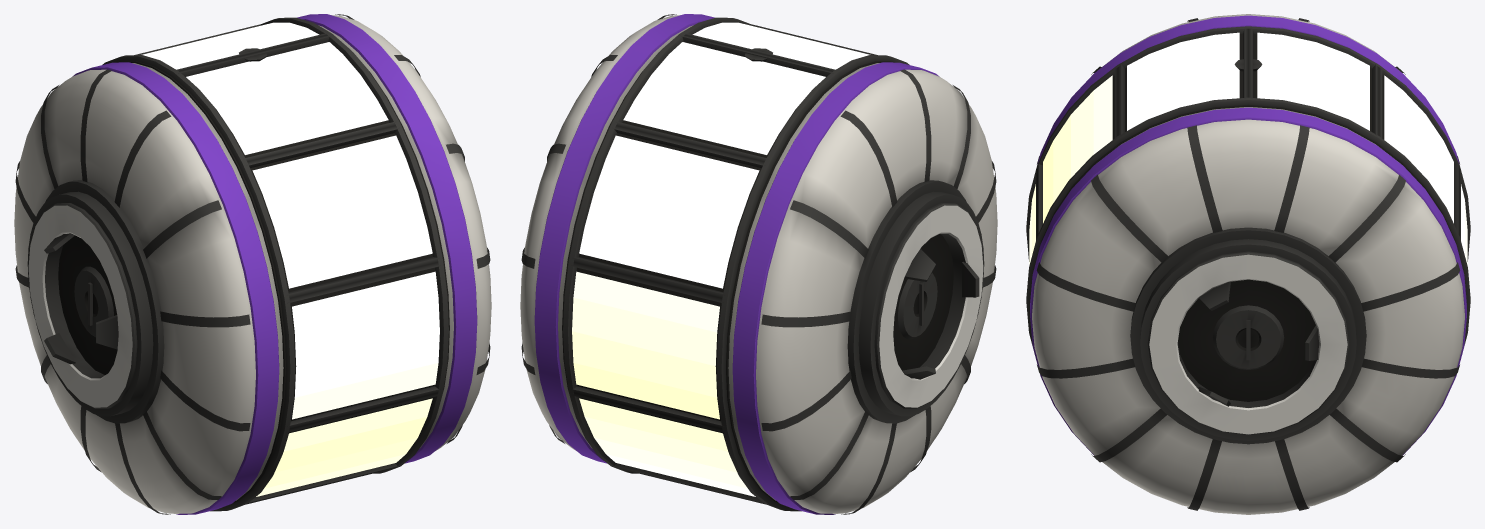
Rendered from lounge.glb.
3 renders of one model, left to right at view 1: azimuth 30°, elevation 25°; view 2: azimuth 150°, elevation 25°; view 3: azimuth 270°, elevation 25°, orthographic. The views are drawn at different scales.
Parts seen in each view (by area): view 1: body, win_main_01, win_main_02, win_main_00, win_main_03, win_main_09; view 2: body, win_main_08, win_main_07, win_main_09, win_main_06, win_main_00; view 3: body, win_main_00, win_main_09, win_main_01, win_main_08.
Boxes of the visible parts, x1,y1,x2,y2 form: body: [14, 14, 491, 514]; win_main_01: [252, 135, 432, 288]; win_main_02: [292, 271, 439, 419]; win_main_00: [186, 42, 388, 154]; win_main_03: [256, 398, 432, 496]; win_main_09: [141, 22, 319, 69]; body: [520, 14, 997, 514]; win_main_08: [579, 135, 759, 288]; win_main_07: [572, 271, 719, 419]; win_main_09: [623, 42, 825, 154]; win_main_06: [579, 398, 755, 496]; win_main_00: [692, 22, 870, 69]; body: [1026, 14, 1470, 514]; win_main_00: [1127, 32, 1239, 130]; win_main_09: [1257, 32, 1369, 130]; win_main_01: [1043, 75, 1112, 223]; win_main_08: [1384, 75, 1453, 223].
Size of the model in its own units: 3.83 by 4.1 by 4.1.
